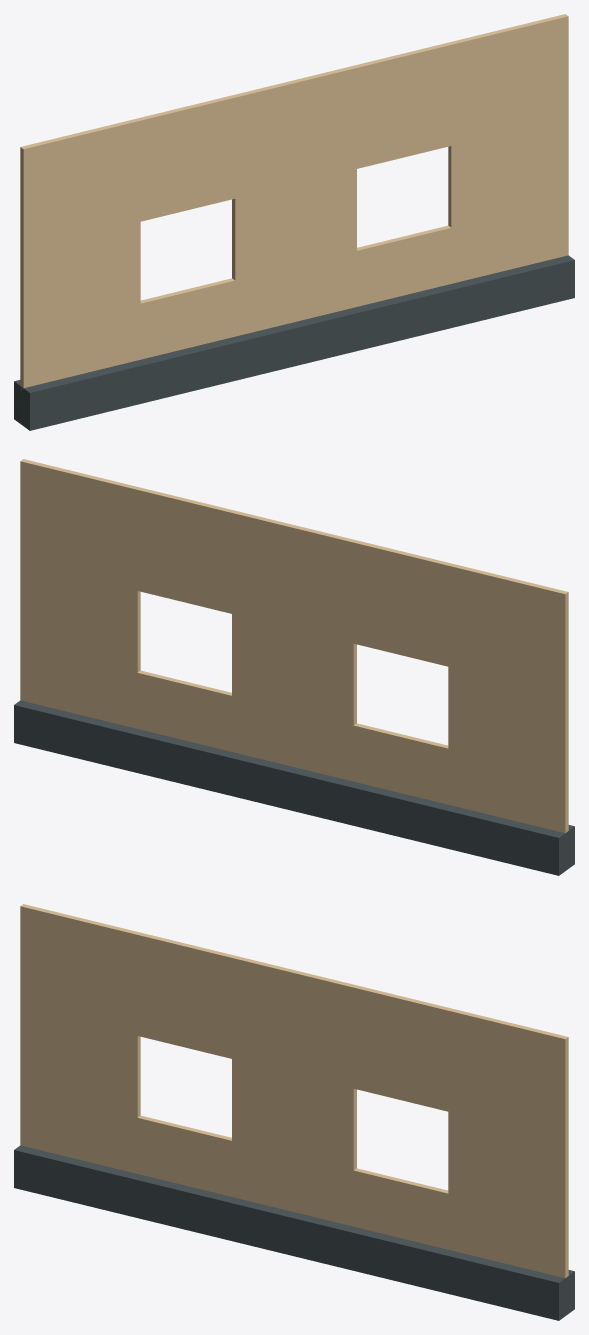
The model's file is Wall_08_Window.fbx.
3 views of the same model, one above another, from view 1: azimuth 30°, elevation 25°; view 2: azimuth 150°, elevation 25°; view 3: azimuth 330°, elevation 25° (orthographic).
Parts seen in each view (by area): view 1: Wall_08_Window; view 2: Wall_08_Window; view 3: Wall_08_Window.
Part boxes in pixels (x1,y1,x2,y2): Wall_08_Window: (14,14,574,430); Wall_08_Window: (14,459,574,875); Wall_08_Window: (14,904,574,1320).
Size of the model in its own units: 575 by 279 by 29.21.
